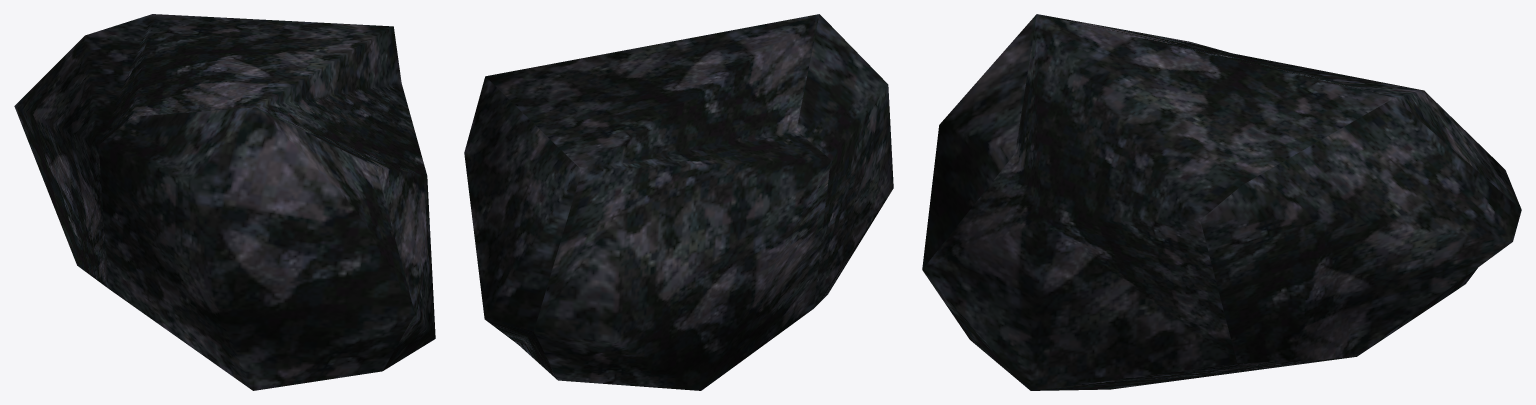
The model's file is asteroid_obsidian_radial_s02_l2.fbx.
3 renders of one model, left to right at view 1: azimuth 30°, elevation 25°; view 2: azimuth 150°, elevation 25°; view 3: azimuth 270°, elevation 25°, orthographic. The views are drawn at different scales.
Parts seen in each view (by area): view 1: mesh_node; view 2: mesh_node; view 3: mesh_node.
Boxes of the visible parts, box(x1,y1,x2,y2) form: mesh_node: box(14, 14, 435, 390); mesh_node: box(464, 14, 893, 390); mesh_node: box(922, 14, 1521, 390).
Bounding box in the file's own units: 4.28 × 3.89 × 6.61.
Materials: 1 (1 with a texture image).
